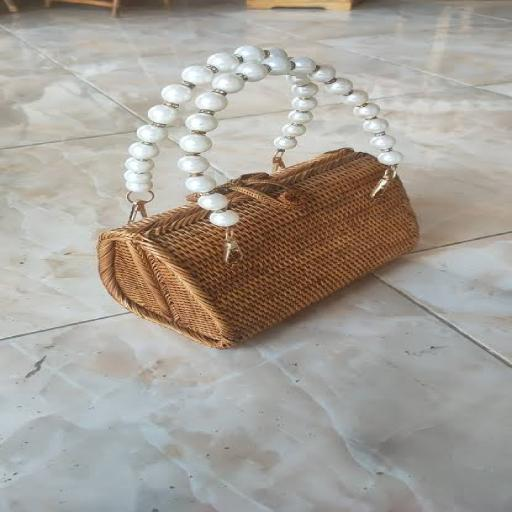tas sandang: (95, 40, 419, 351)
